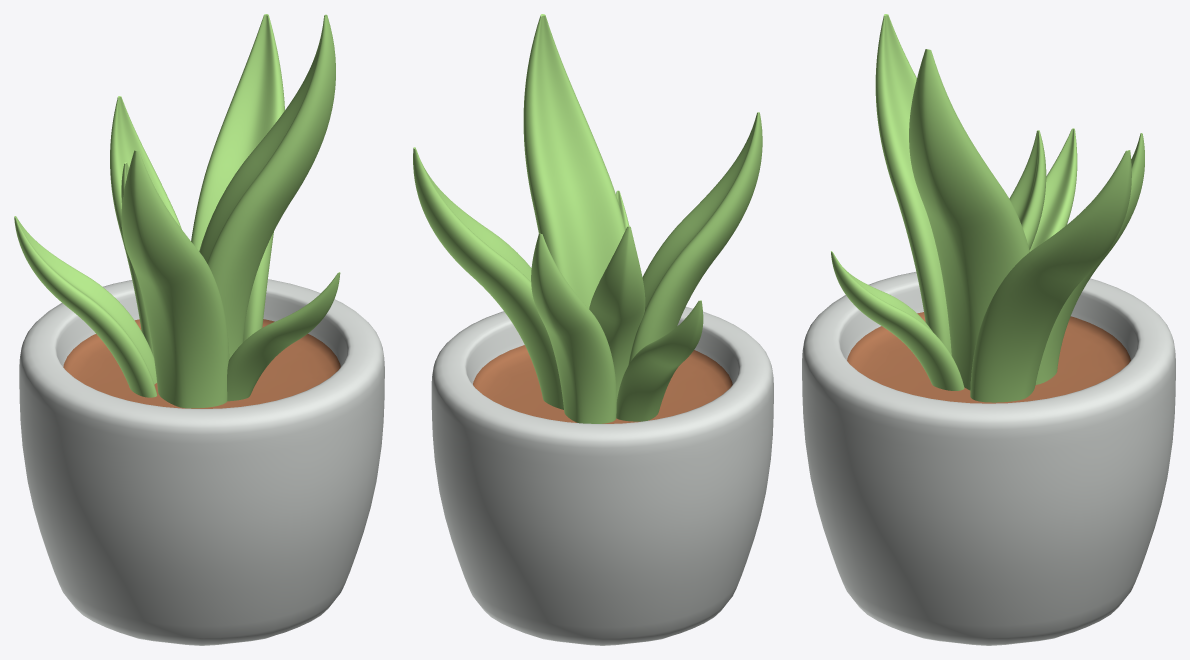
The model's file is aloevera.glb.
3 renders of one model, left to right at view 1: azimuth 30°, elevation 25°; view 2: azimuth 150°, elevation 25°; view 3: azimuth 270°, elevation 25°, orthographic. The views are drawn at different scales.
Parts seen in each view (by area): view 1: pot, plant; view 2: pot, plant; view 3: pot, plant.
Boxes of the visible parts, left/top/right/bottom form: pot: left=19, top=279, right=384, bottom=645; plant: left=14, top=14, right=340, bottom=408; pot: left=431, top=307, right=773, bottom=645; plant: left=413, top=14, right=762, bottom=423; pot: left=802, top=272, right=1175, bottom=645; plant: left=831, top=14, right=1144, bottom=402.
Size of the model in its own units: 13.52 by 23.83 by 13.52.
